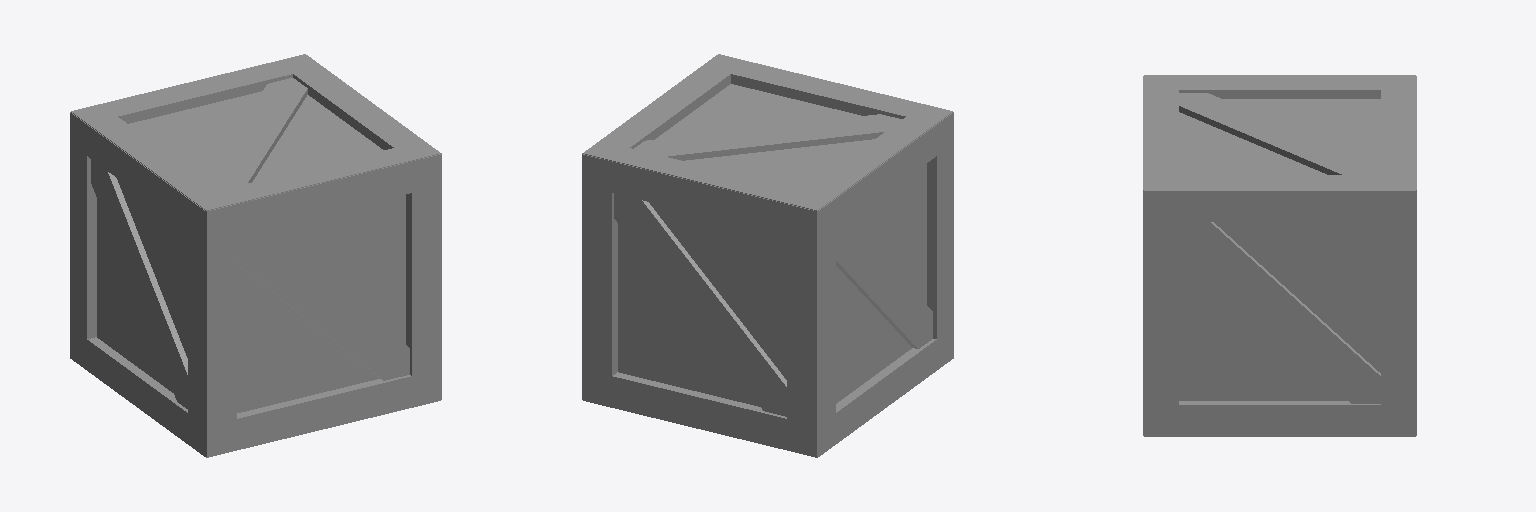
The model's file is chest.obj.
The picture shows the model from 3 angles: view 1: azimuth 30°, elevation 25°; view 2: azimuth 150°, elevation 25°; view 3: azimuth 270°, elevation 25°; orthographic projection.
Visible parts, largest first — view 1: Crate1_Plane.001; view 2: Crate1_Plane.001; view 3: Crate1_Plane.001.
Part boxes in pixels (left/top/right/bottom): Crate1_Plane.001: left=70, top=54, right=441, bottom=457; Crate1_Plane.001: left=582, top=54, right=953, bottom=457; Crate1_Plane.001: left=1143, top=75, right=1416, bottom=436.
Size of the model in its own units: 1.01 by 1.01 by 1.01.